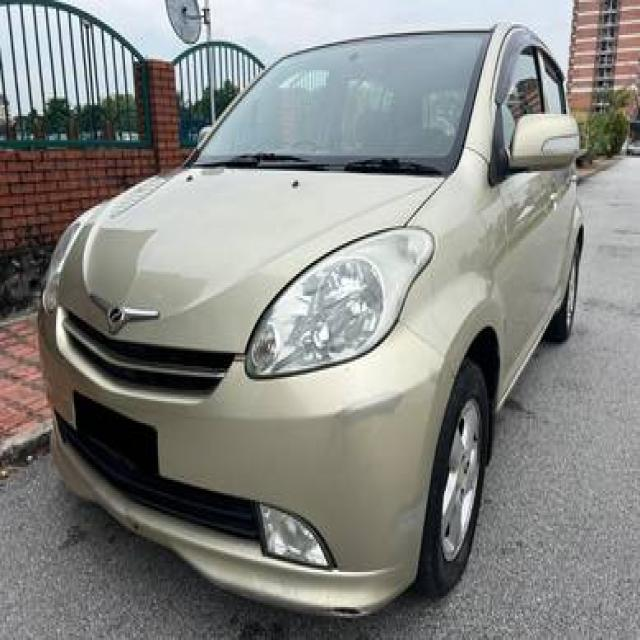PeroduaMyvi: (34, 18, 586, 618)
